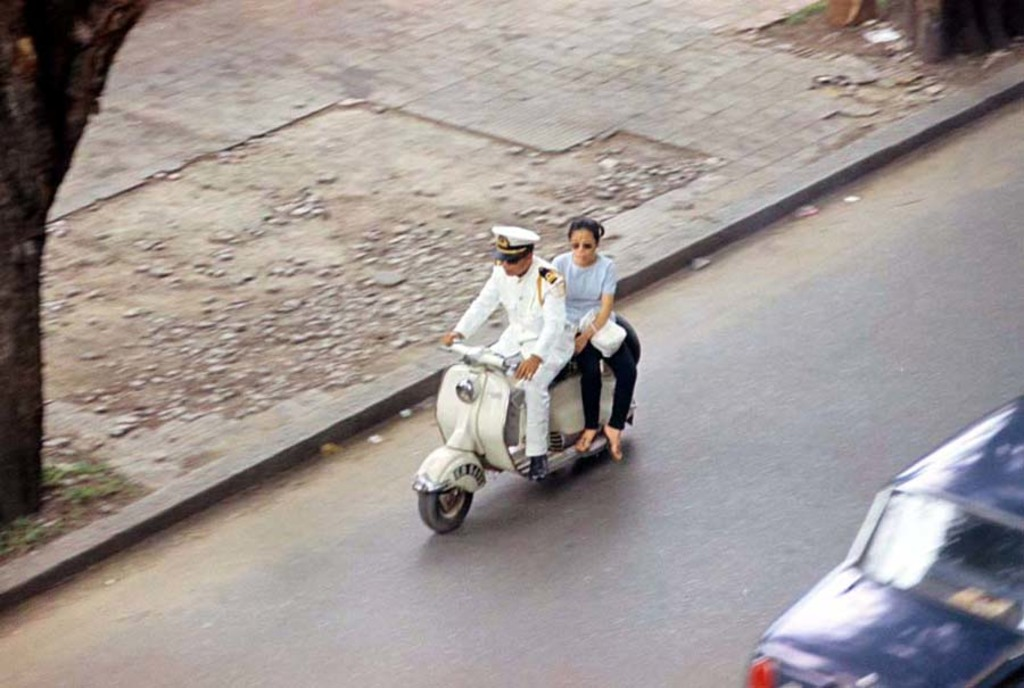Car: (733, 394, 1024, 678)
